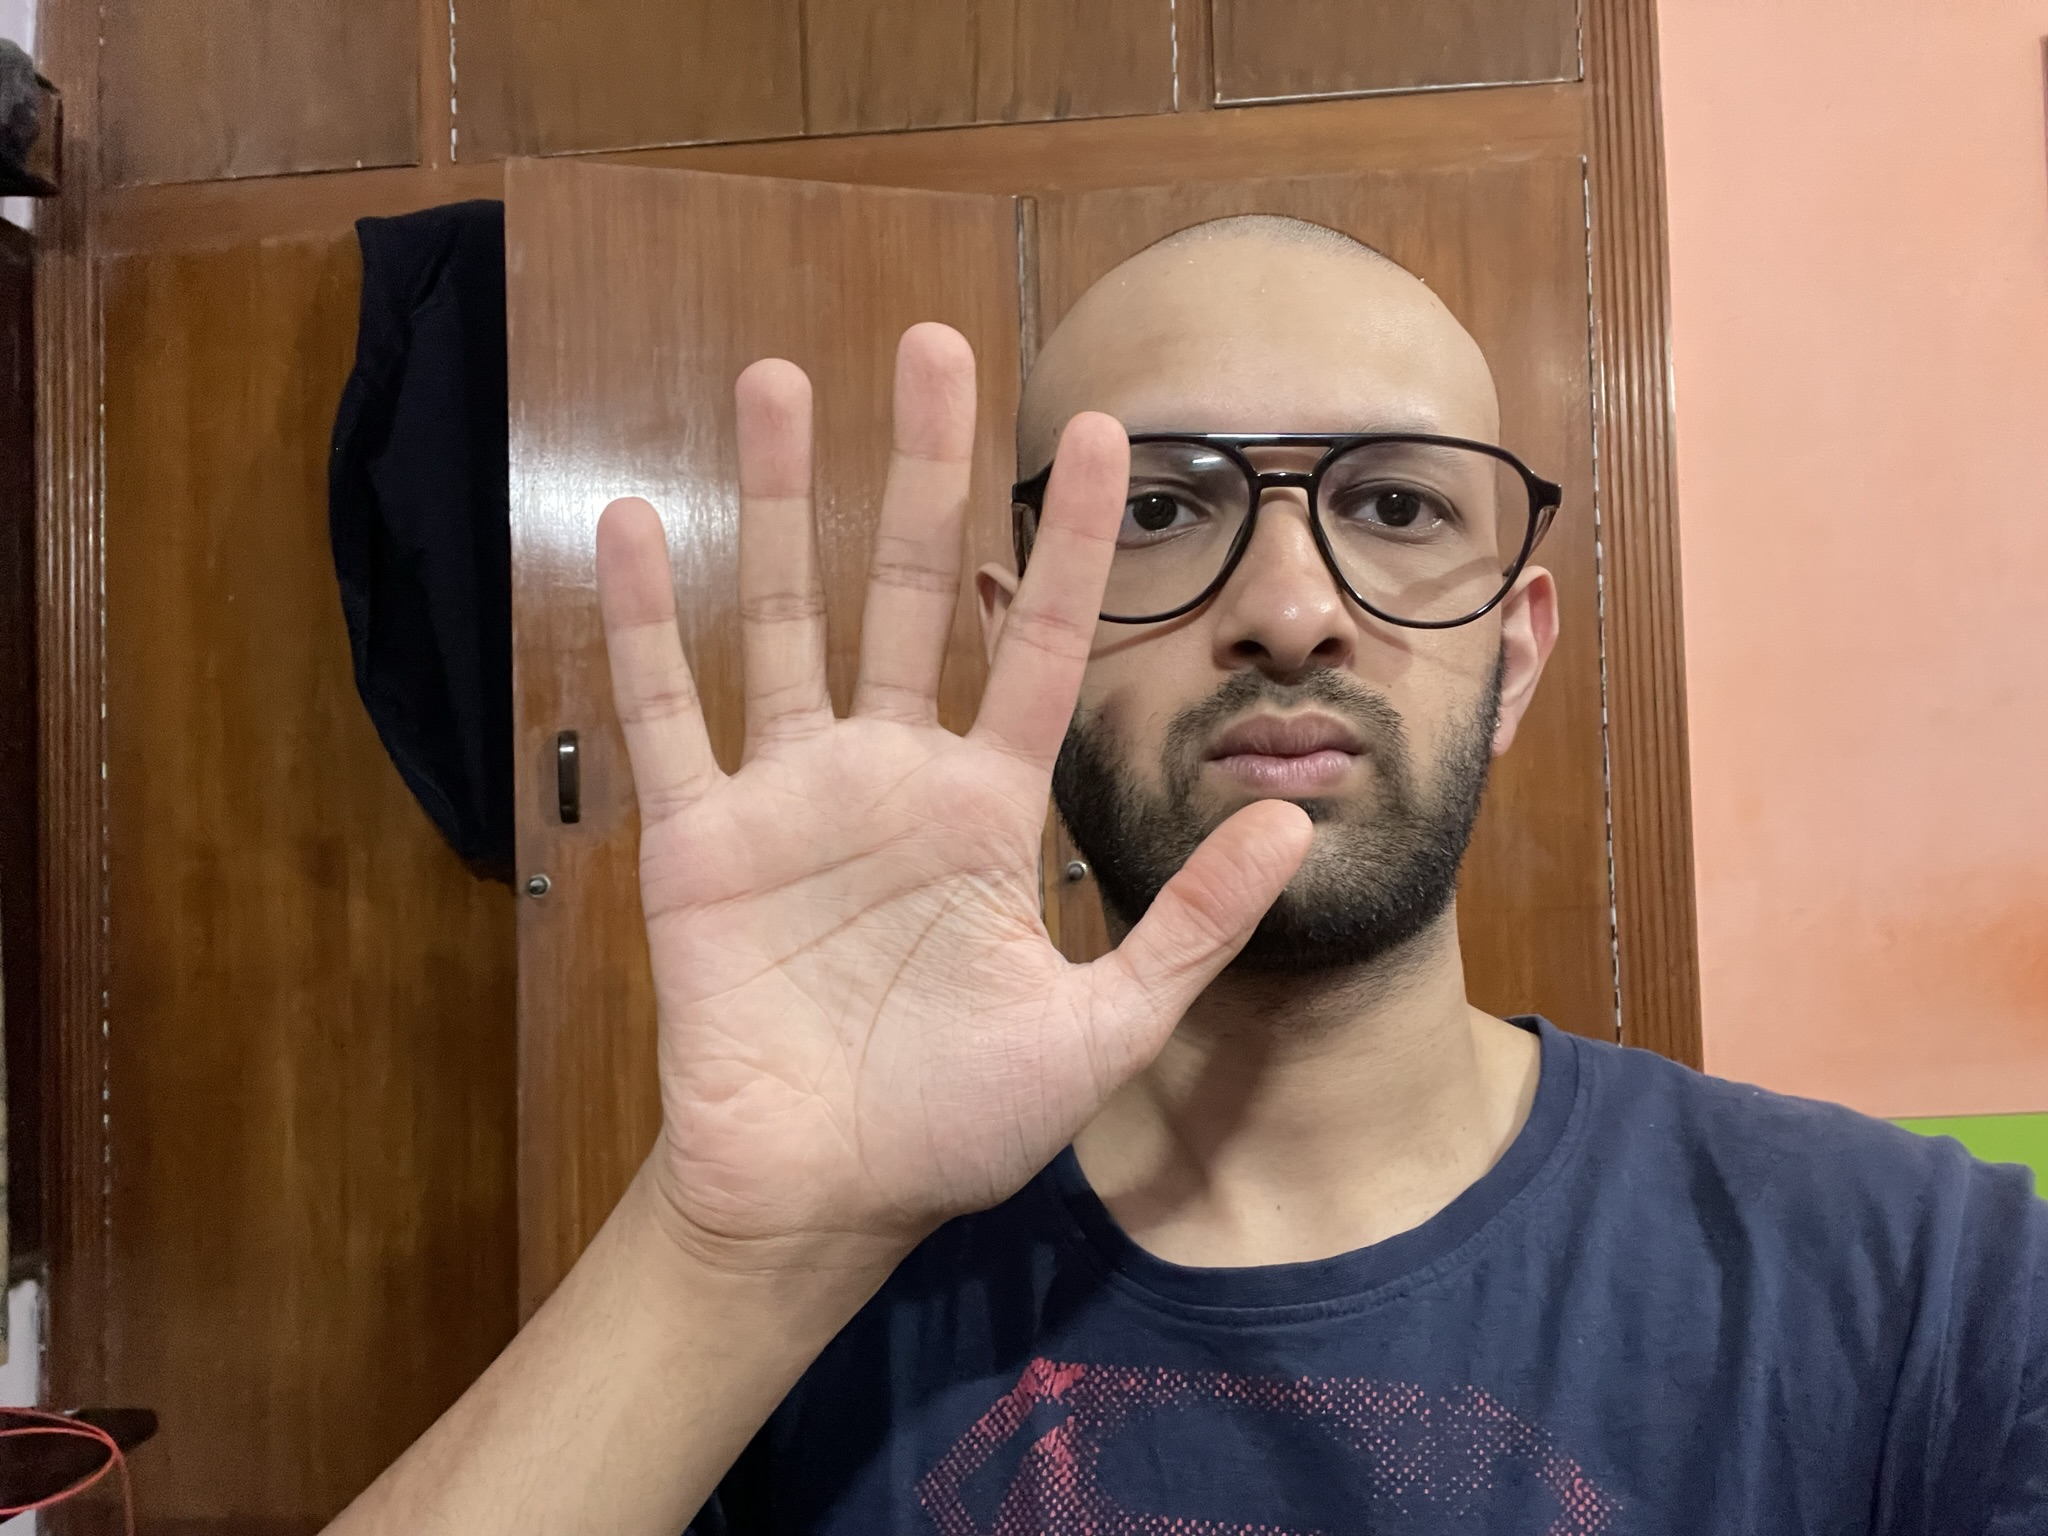Hello: (585, 311, 1324, 1265)
